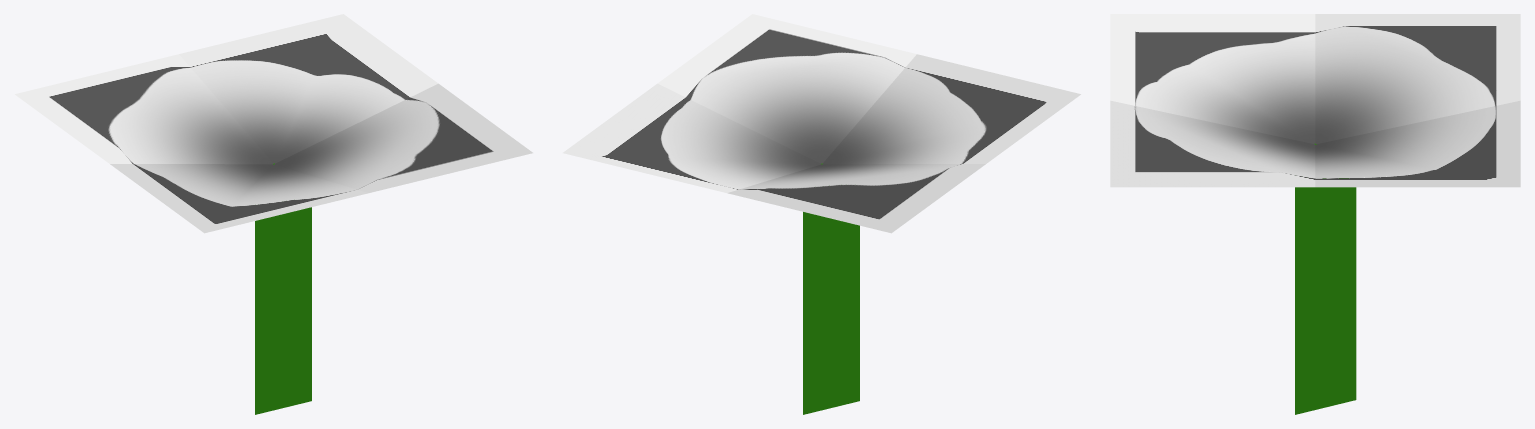
File: Flower02.fbx
The picture shows the model from 3 angles, left to right: view 1: azimuth 30°, elevation 25°; view 2: azimuth 150°, elevation 25°; view 3: azimuth 270°, elevation 25°; orthographic projection. The views are drawn at different scales.
Parts seen in each view (by area): view 1: Flower02; view 2: Flower02; view 3: Flower02.
Part boxes in pixels (left/top/right/bottom): Flower02: left=15, top=14, right=532, bottom=414; Flower02: left=563, top=14, right=1080, bottom=414; Flower02: left=1110, top=14, right=1520, bottom=414.
Bounding box in the file's own units: 121 × 97.09 × 121.
